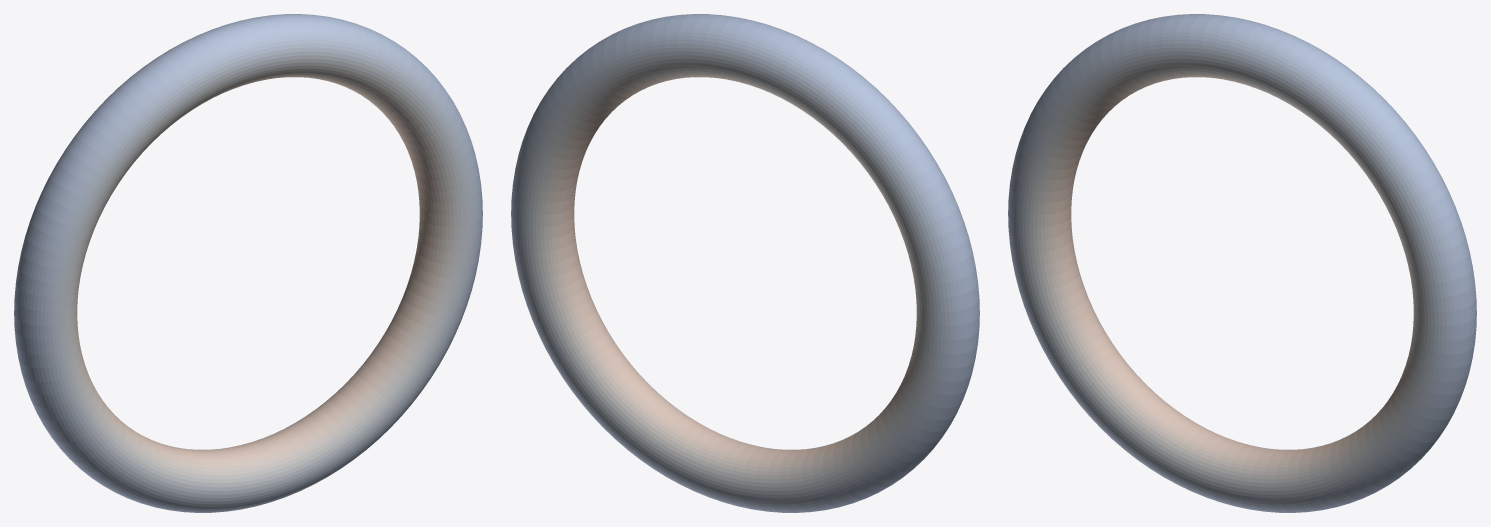
3 renders of one model, left to right at view 1: azimuth 30°, elevation 25°; view 2: azimuth 150°, elevation 25°; view 3: azimuth 330°, elevation 25°, orthographic.
Parts seen in each view (by area): view 1: world; view 2: world; view 3: world.
Part boxes in pixels (box(x1,y1,x2,y2)): world: box(14, 14, 482, 512); world: box(511, 14, 979, 512); world: box(1008, 14, 1476, 512).
Size of the model in its own units: 32.53 by 32.53 by 3.86.
